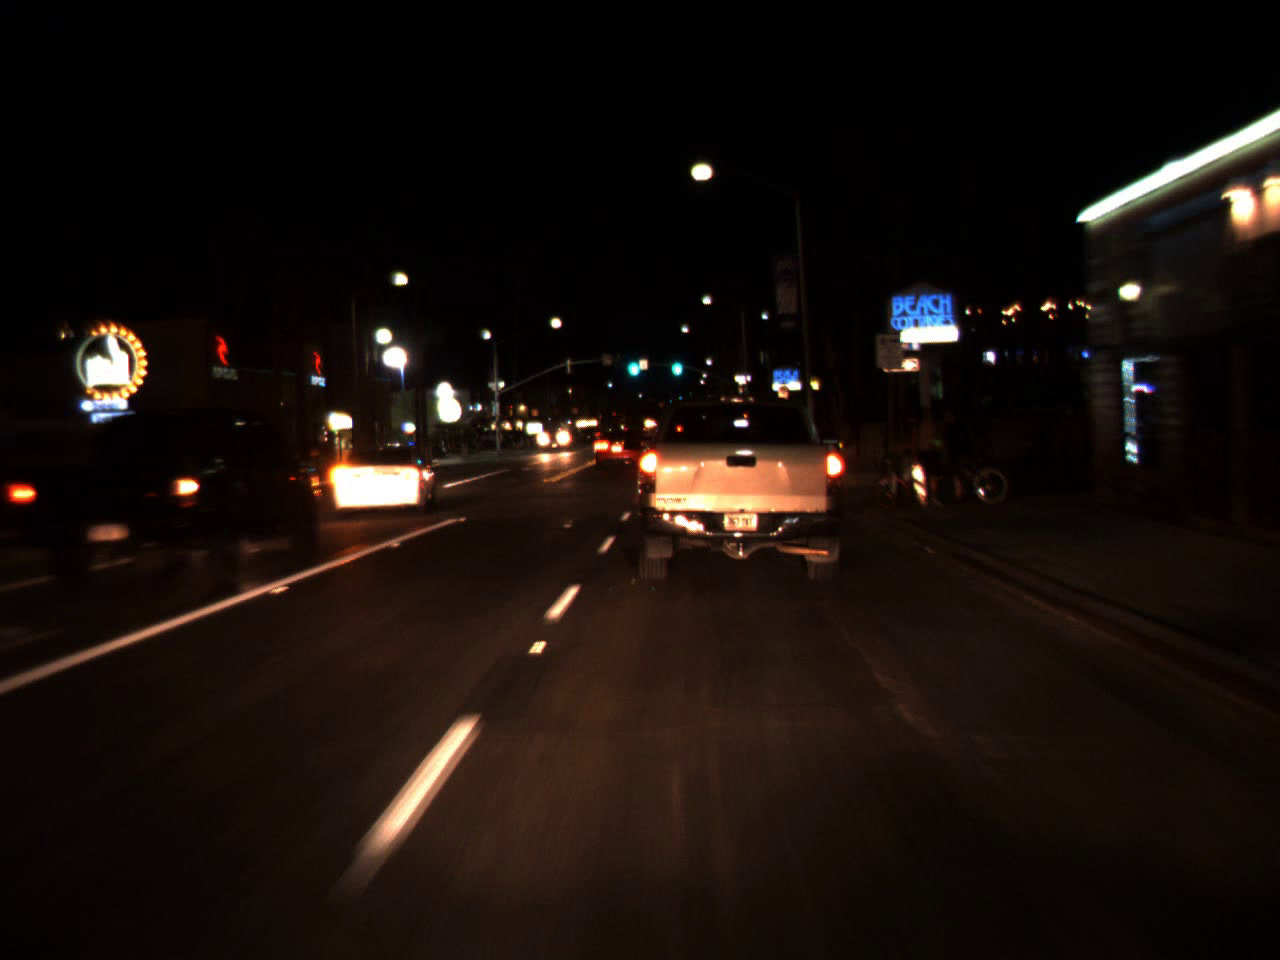go: (622, 345, 643, 381), (667, 349, 685, 379)
